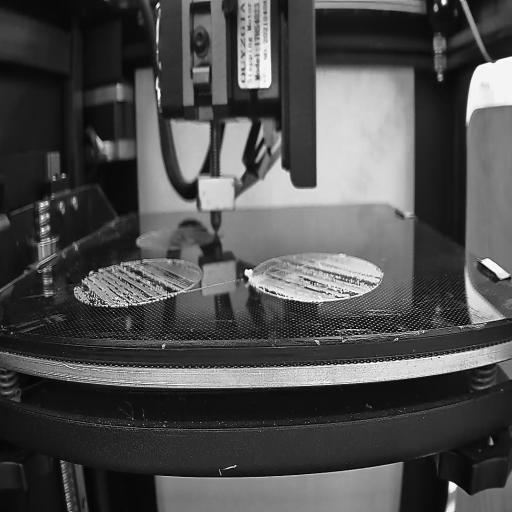under_extrusion: (258, 258, 380, 300), (76, 262, 198, 303)
